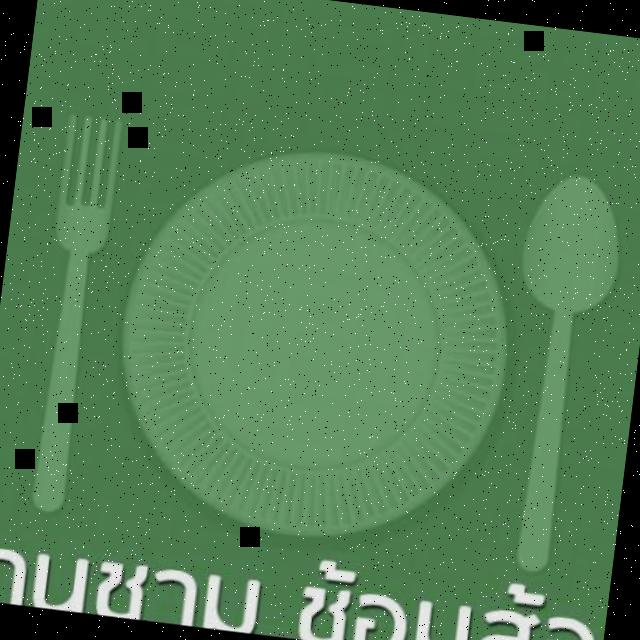plastic_box: (98, 127, 526, 561), (483, 168, 632, 581), (18, 111, 124, 512)
